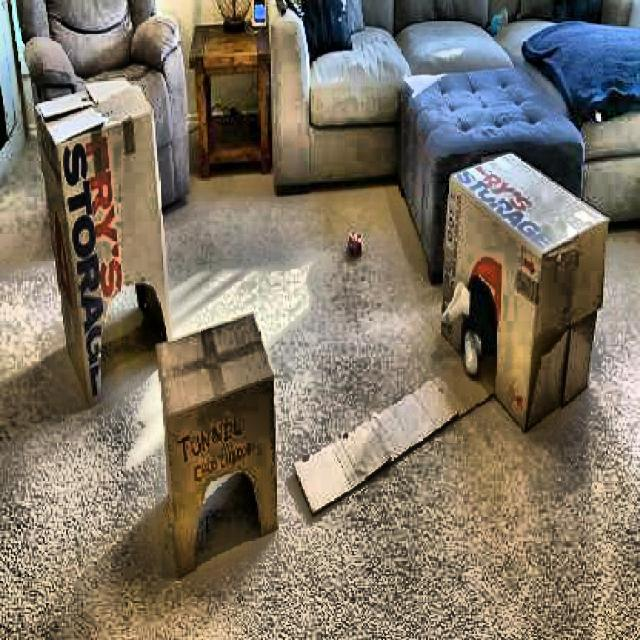Cardbox: (432, 166, 616, 445), (23, 87, 182, 400), (158, 319, 280, 578), (255, 3, 267, 24)
